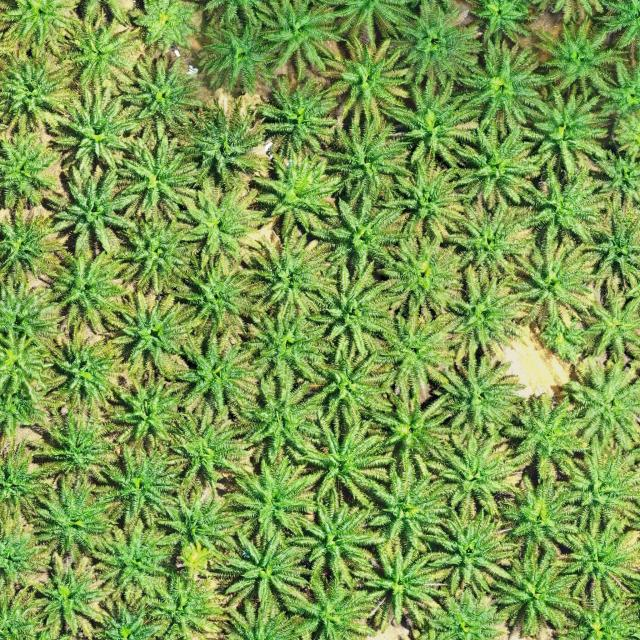Tree: (369, 298, 469, 409), (164, 173, 276, 272), (164, 91, 267, 198), (483, 539, 588, 640), (416, 506, 521, 604), (314, 30, 412, 132), (236, 296, 335, 396), (420, 430, 529, 520), (452, 36, 555, 131), (506, 234, 614, 324), (158, 332, 260, 426), (287, 415, 391, 507), (31, 244, 130, 340), (230, 376, 326, 474), (103, 54, 205, 146), (42, 86, 143, 178), (345, 541, 446, 632), (555, 430, 640, 538), (516, 84, 610, 180), (245, 149, 342, 242), (364, 458, 455, 556), (362, 384, 450, 484), (424, 351, 526, 437), (293, 345, 391, 434), (368, 234, 466, 323), (320, 188, 412, 282), (238, 230, 332, 322), (32, 327, 126, 419), (433, 273, 529, 363), (290, 498, 383, 590), (444, 125, 542, 212), (382, 78, 474, 170), (303, 266, 392, 361), (392, 1, 486, 90), (160, 405, 256, 492), (112, 135, 202, 227), (25, 473, 119, 561), (224, 457, 317, 545), (442, 200, 535, 286), (106, 210, 194, 300), (323, 117, 412, 205), (99, 371, 190, 457), (504, 386, 590, 476), (496, 468, 586, 554), (92, 446, 181, 532), (551, 518, 640, 604), (207, 524, 298, 608), (253, 72, 339, 160), (166, 254, 251, 342), (251, 0, 344, 80), (560, 361, 640, 453), (520, 165, 610, 245), (28, 412, 120, 490), (28, 556, 112, 640), (95, 516, 174, 604), (191, 19, 282, 95), (533, 15, 618, 96), (101, 292, 185, 373), (46, 168, 125, 252), (285, 568, 377, 640), (0, 48, 72, 136), (59, 10, 136, 92), (385, 164, 463, 242), (152, 488, 242, 554), (143, 572, 224, 640), (575, 282, 640, 366), (0, 213, 69, 289), (0, 132, 60, 210), (0, 0, 80, 58)
